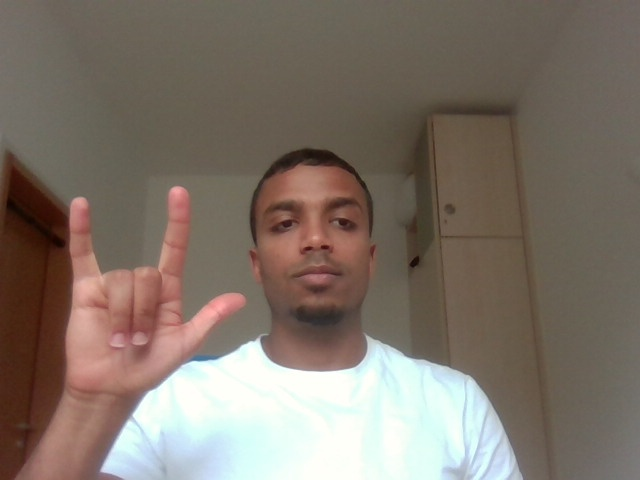absolutely: (36, 180, 253, 414)
